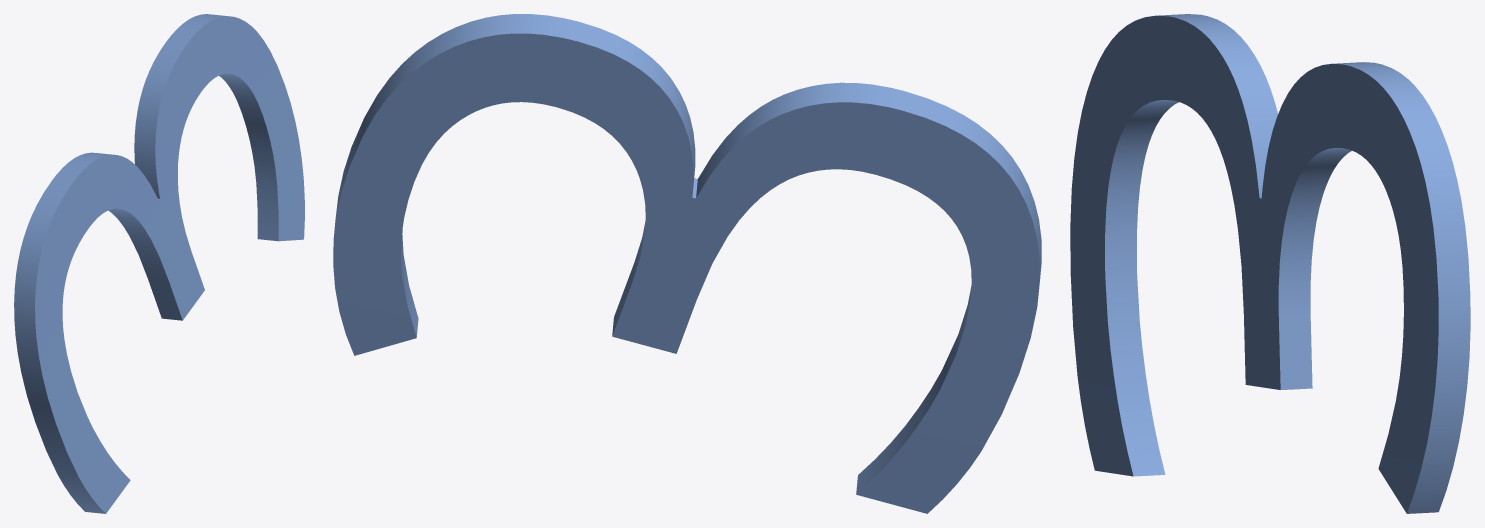
Rendered from New_Number_3.gltf.
3 views of the same model, side by side, from view 1: azimuth 30°, elevation 25°; view 2: azimuth 150°, elevation 25°; view 3: azimuth 270°, elevation 25° (orthographic). The views are drawn at different scales.
Parts seen in each view (by area): view 1: Part 543; view 2: Part 543; view 3: Part 543.
Boxes of the visible parts, x1=… form: Part 543: x1=14, y1=14, x2=304, y2=513; Part 543: x1=333, y1=14, x2=1041, y2=513; Part 543: x1=1070, y1=14, x2=1470, y2=513.
Bounding box in the file's own units: 0.00463 × 0.00415 × 0.00281.
